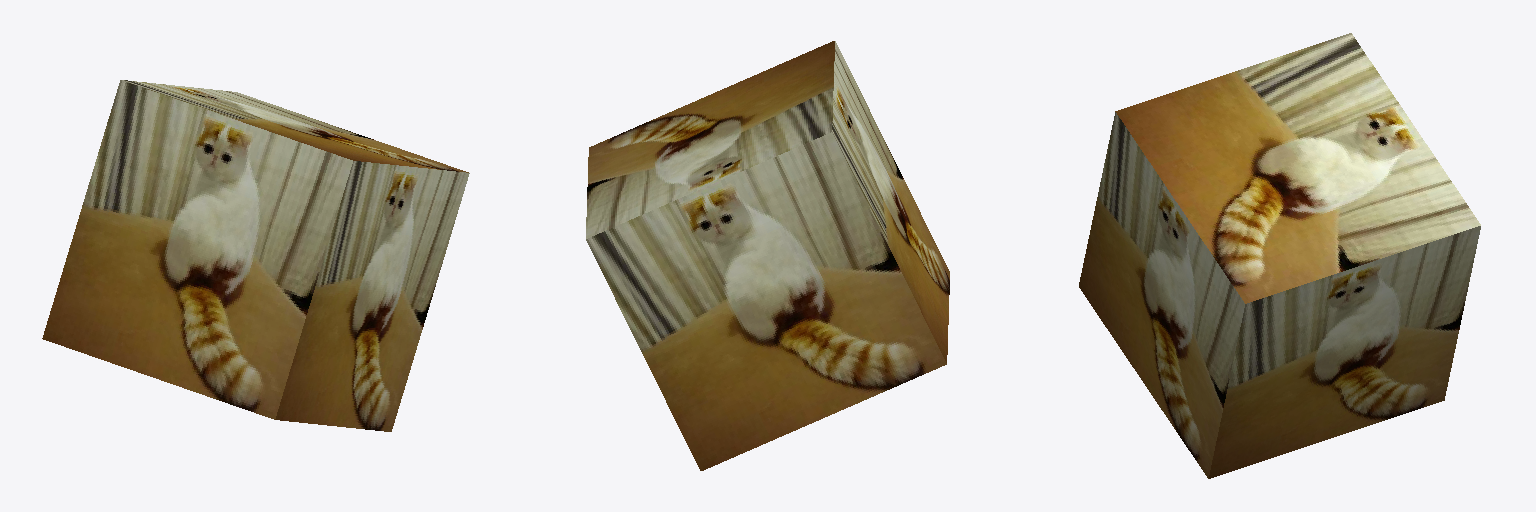
3 views of the same model, side by side, from view 1: azimuth 30°, elevation 25°; view 2: azimuth 150°, elevation 25°; view 3: azimuth 270°, elevation 25° (orthographic).
Parts seen in each view (by area): view 1: Box01; view 2: Box01; view 3: Box01.
Part boxes in pixels (x1,y1,x2,y2): Box01: (42, 80, 469, 431); Box01: (586, 41, 949, 470); Box01: (1079, 33, 1480, 478).
Bounding box in the file's own units: 16.69 × 14.16 × 14.81.
Materials: 1 (1 with a texture image).